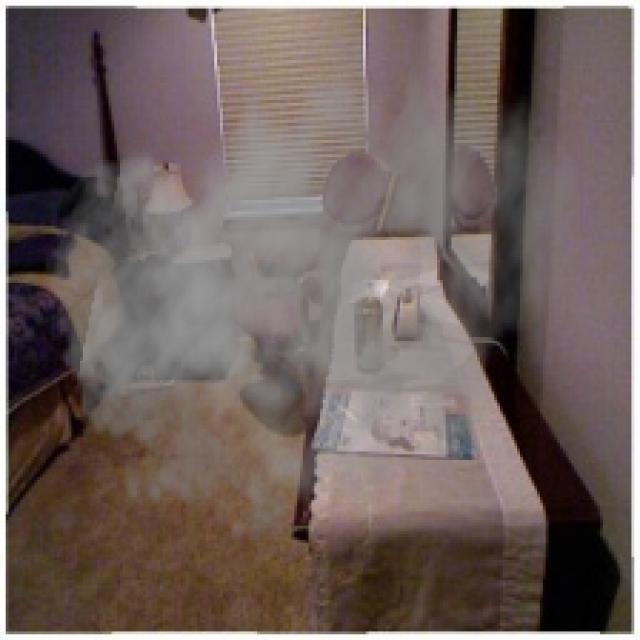Smoke: (37, 17, 586, 566)
